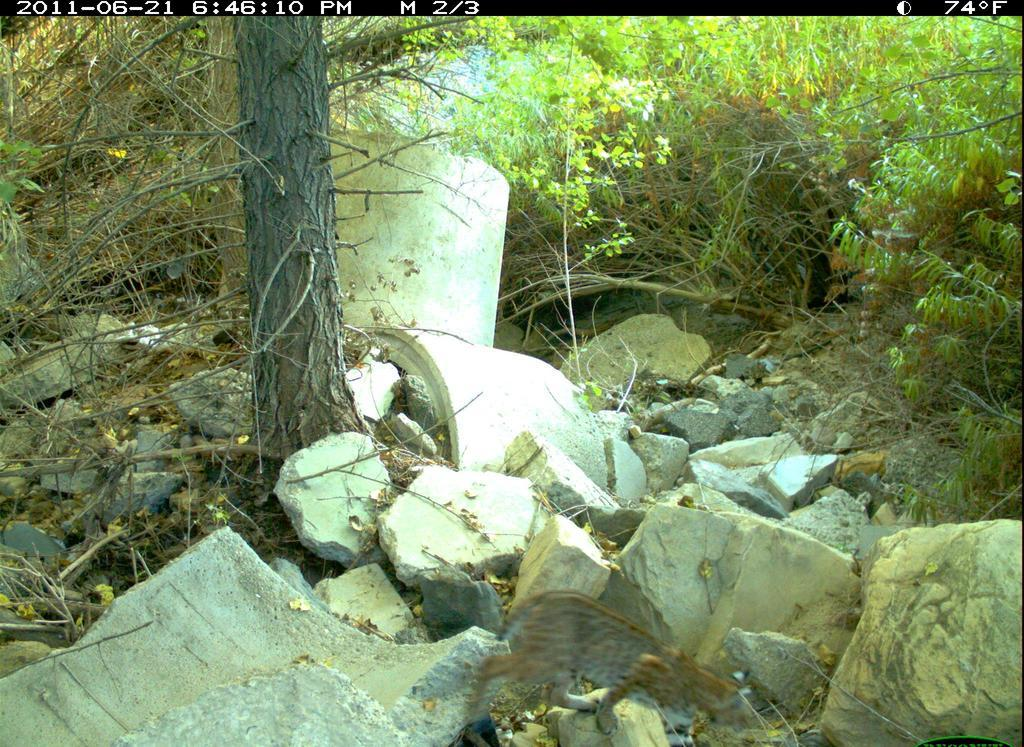bobcat: (461, 583, 753, 742)
